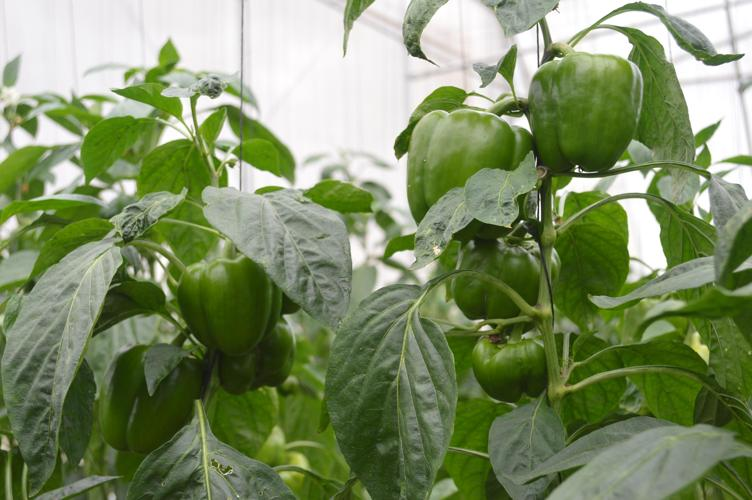BellPepper: (517, 38, 649, 187), (391, 94, 527, 230), (93, 352, 214, 448), (167, 254, 282, 353), (444, 230, 568, 316), (473, 327, 552, 394)
